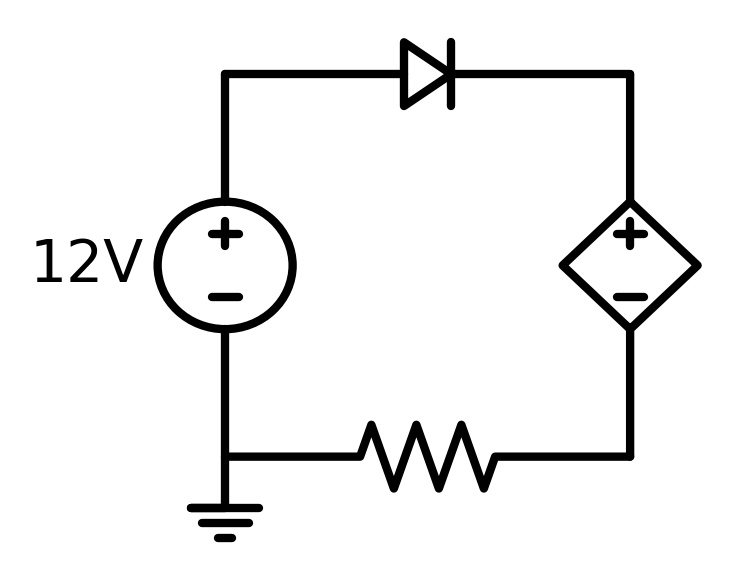diode: (373, 34, 478, 121)
ground: (178, 488, 270, 555)
resistor: (351, 409, 510, 501)
sourcedc: (151, 194, 298, 336)
sourcevc: (551, 197, 711, 347)
